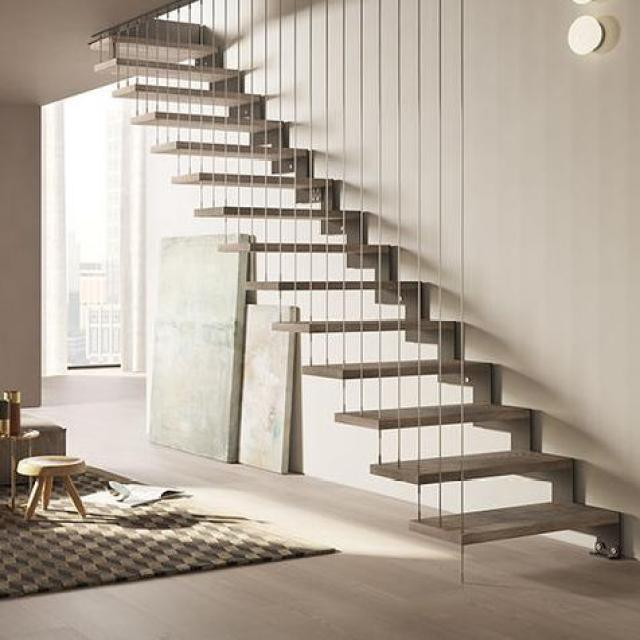Stairs: (109, 20, 610, 541)
